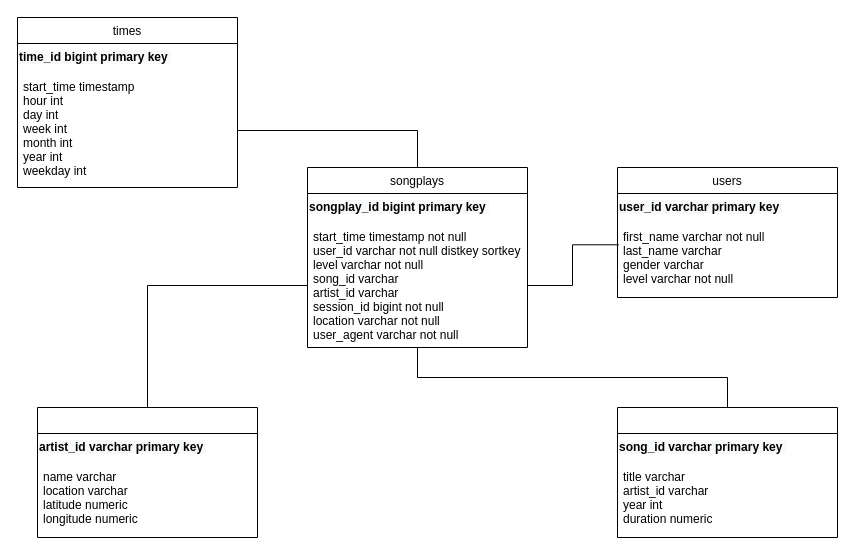
Image size: 855x558. Some labels were removed from this diagram. Here are the shapes that lost their labels. From the top down, the box of each, then its label:
(36, 406, 258, 538): artists
(616, 406, 838, 538): songs
